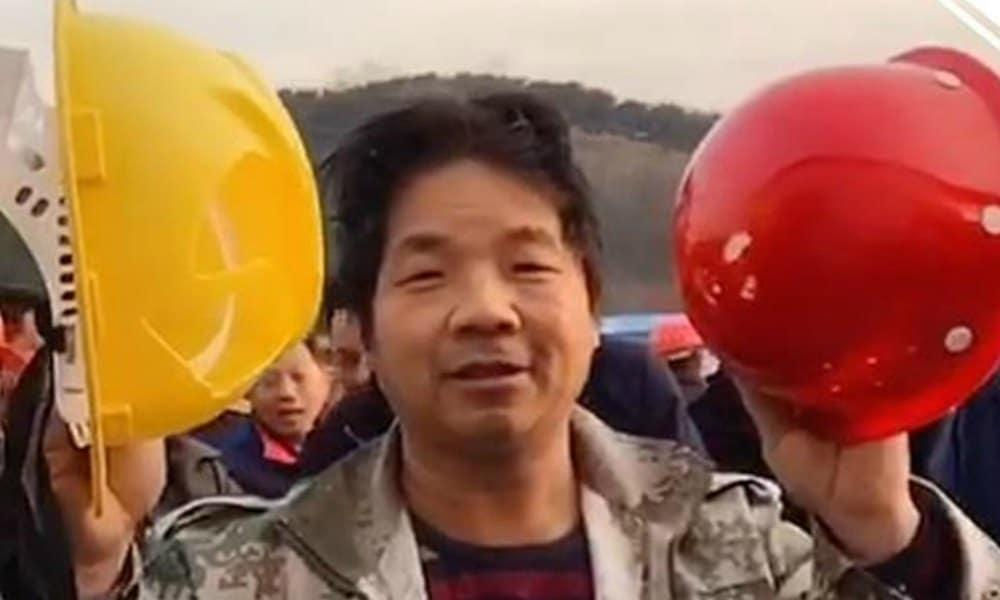helmet: (46, 1, 333, 470), (678, 55, 1000, 435), (627, 304, 708, 369)
